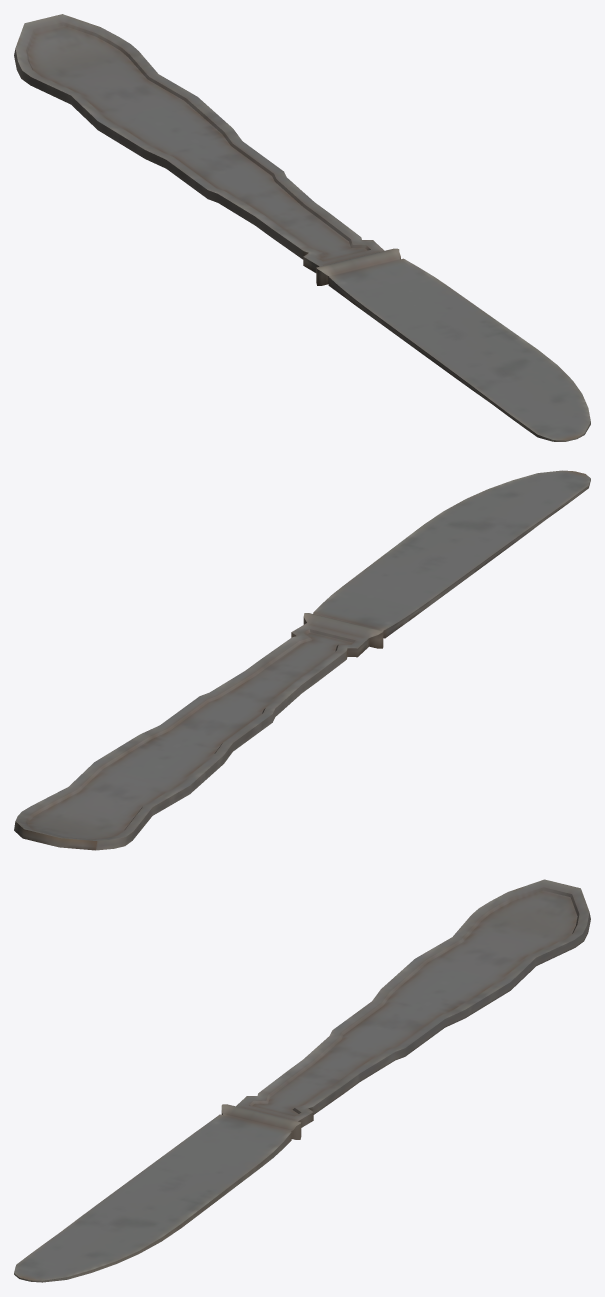
File: SM_Knife.fbx
The picture shows the model from 3 angles, top to bottom: view 1: azimuth 30°, elevation 25°; view 2: azimuth 150°, elevation 25°; view 3: azimuth 330°, elevation 25°; orthographic projection. The views are drawn at different scales.
Visible parts, largest first — view 1: SM_Knife_LOD0; view 2: SM_Knife_LOD0; view 3: SM_Knife_LOD0.
Boxes of the visible parts, x1,y1,x2,y2 form: SM_Knife_LOD0: (14, 14, 590, 441); SM_Knife_LOD0: (14, 470, 590, 850); SM_Knife_LOD0: (14, 879, 590, 1282).
Size of the model in its own units: 6.79 by 59.03 by 1.61.
Materials: 1 (1 with a texture image).
